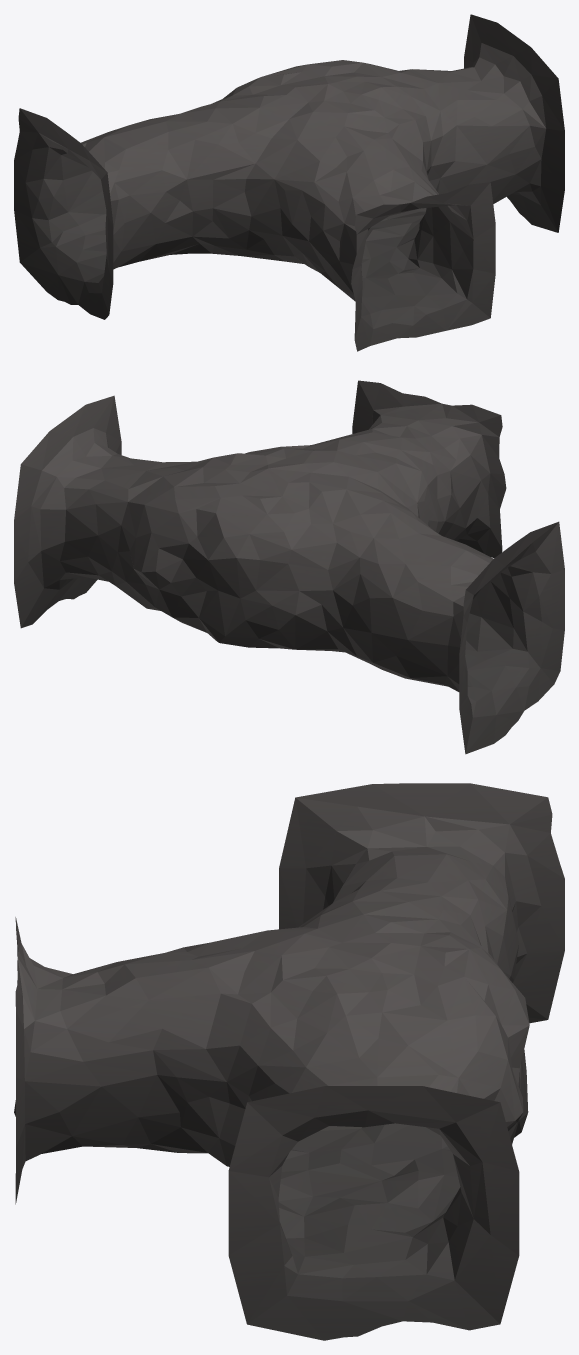
Rendered from ZLP_Cave_B_9.FBX.
The picture shows the model from 3 angles, top to bottom: view 1: azimuth 30°, elevation 25°; view 2: azimuth 150°, elevation 25°; view 3: azimuth 270°, elevation 25°; orthographic projection. The views are drawn at different scales.
Parts seen in each view (by area): view 1: ZLP_Cave_B_9; view 2: ZLP_Cave_B_9; view 3: ZLP_Cave_B_9.
Boxes of the visible parts, box(x1,y1,x2,y2) form: ZLP_Cave_B_9: box(14, 14, 564, 351); ZLP_Cave_B_9: box(14, 380, 564, 754); ZLP_Cave_B_9: box(14, 783, 564, 1340).
Bounding box in the file's own units: 1847 × 720 × 1410.
